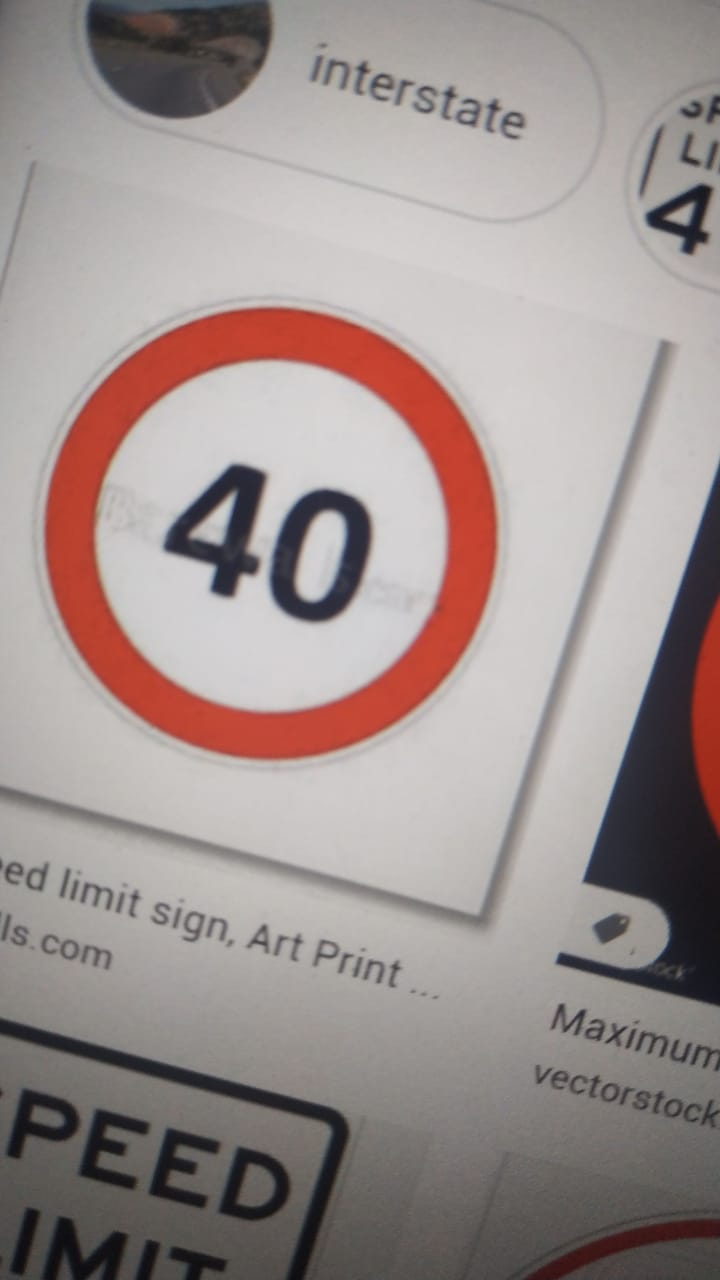SPEED LIMIT (40 KM/H): (28, 229, 527, 904)
